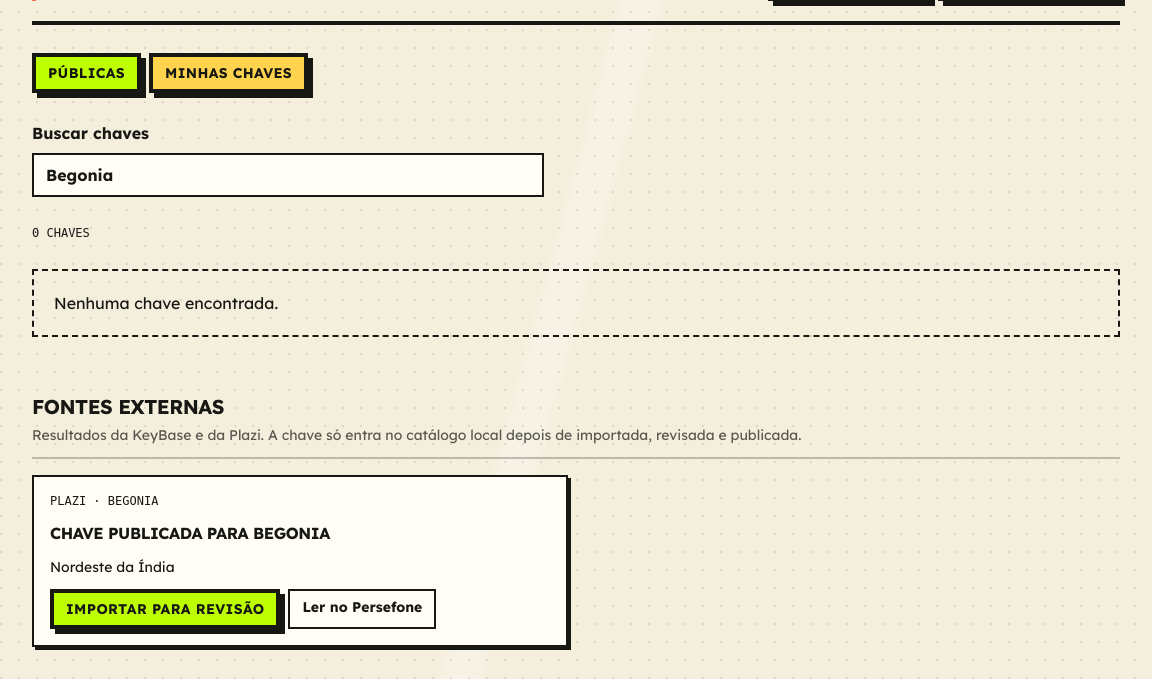
Test case: busca fontes externas e abre a importação como rascunho
(page scrolled)
Expected: the heading "Chave publicada para Begonia" is shown, [50,523,330,543]
Click the button "Importar para revisão" at (165,609), box [50,589,280,629]
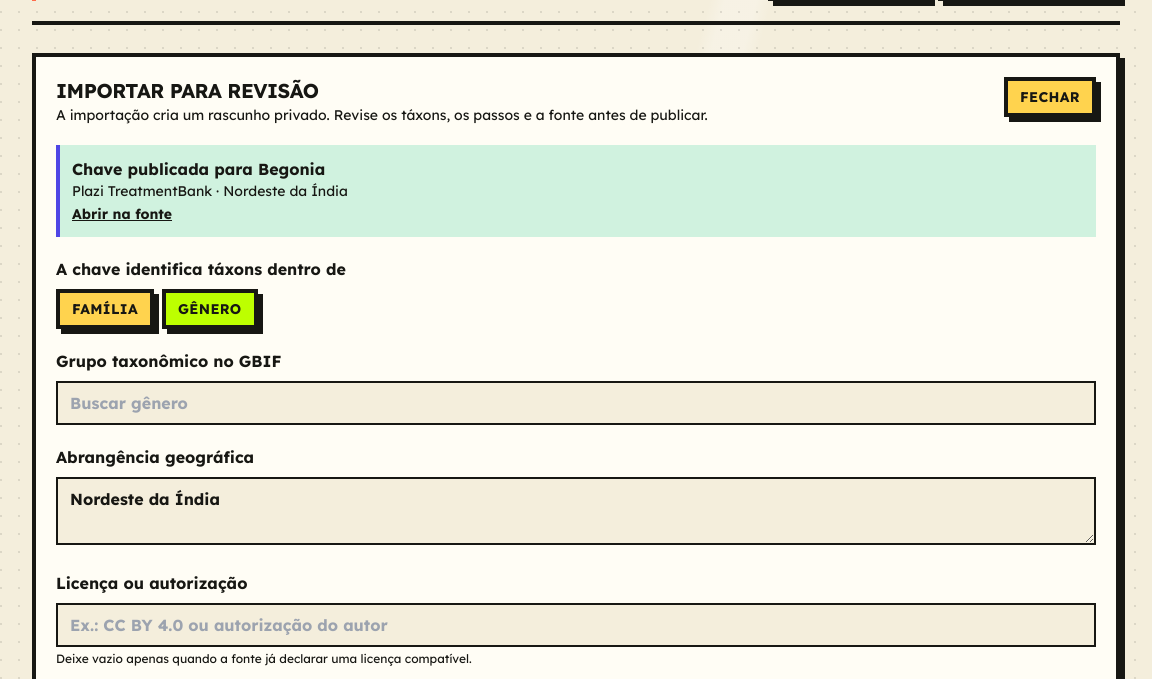
Expected: the text "cria um rascunho privado" is shown, [56,106,708,124]
